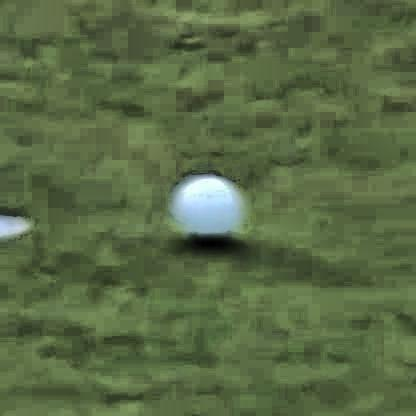golfball: (171, 173, 242, 243)
